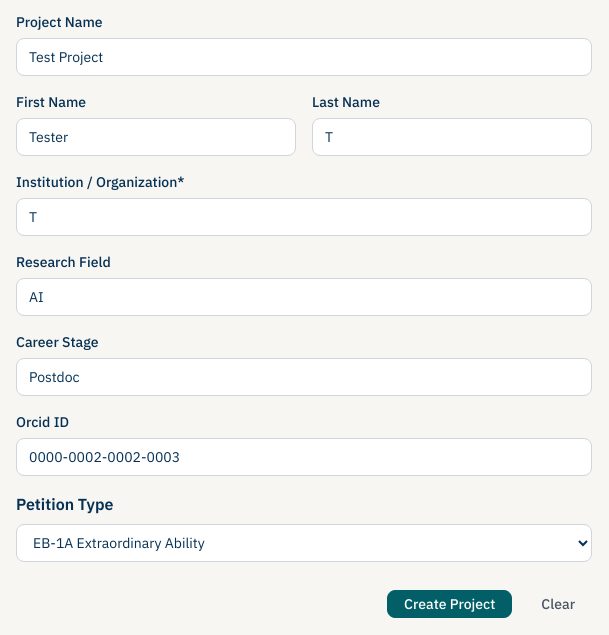
NewProjectForm › resets form values when Clear is clicked
Replace the text in the field labelled "Project Name" with "Changed Project": (304, 57) [16,38,592,76]
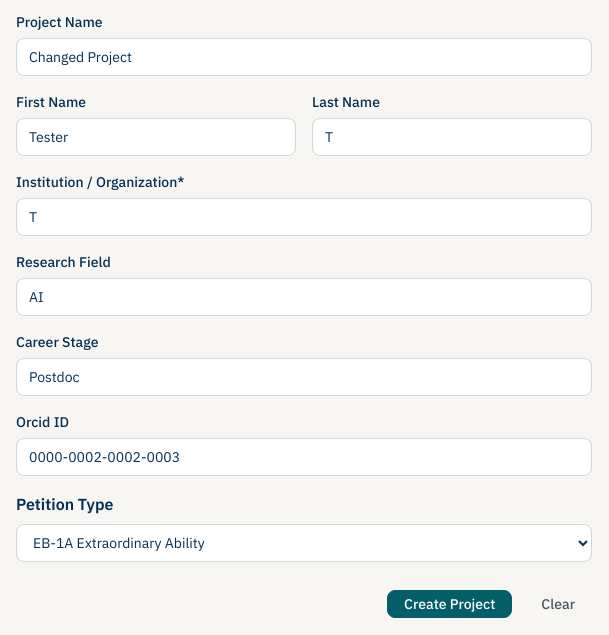
Click the button "Clear": (558, 604) [524,590,592,618]
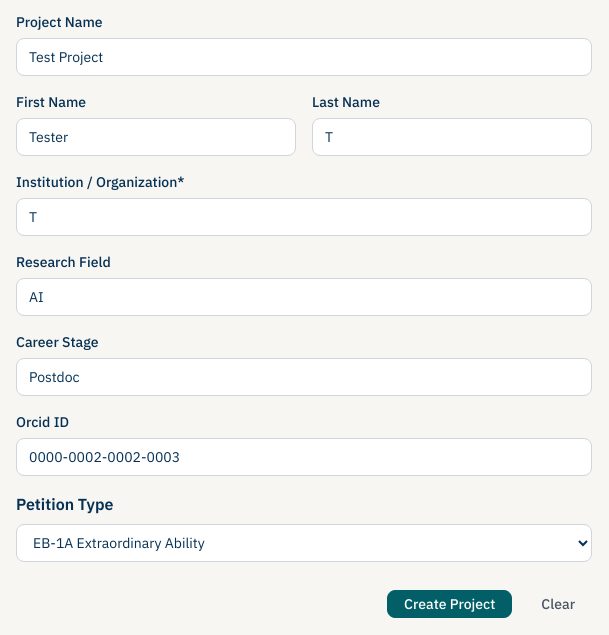
Now the field labelled "Project Name" holds "Test Project", box [16,38,592,76]
